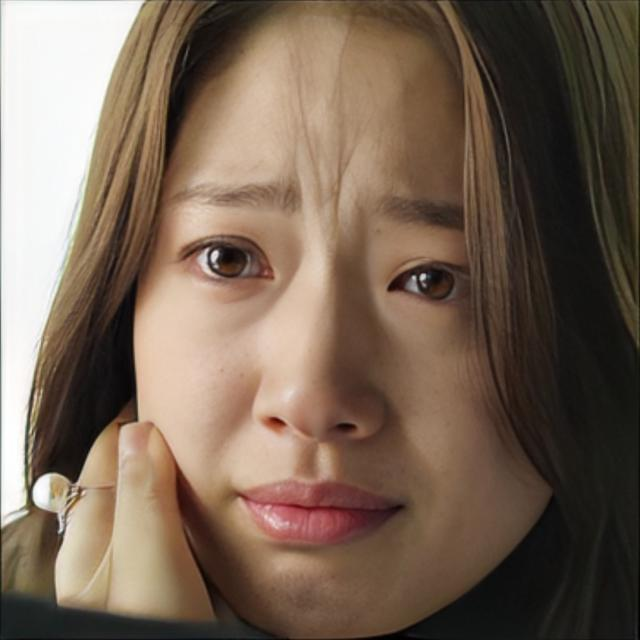sad: (130, 0, 564, 640)
